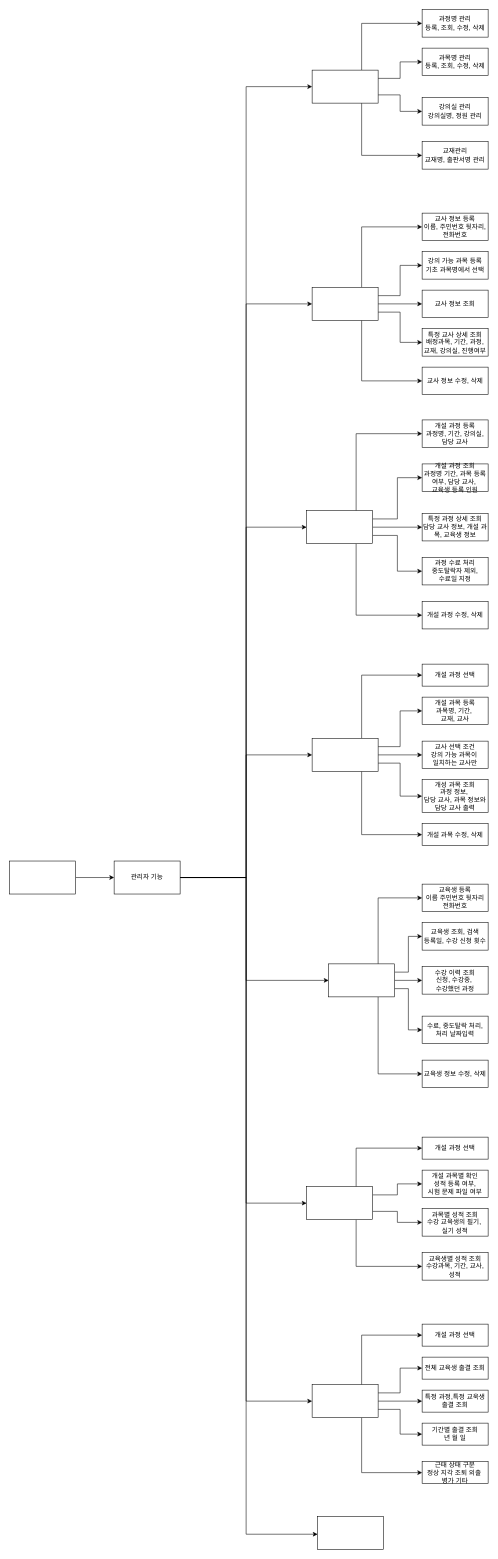
The diagram is 498 pixels wide and 1559 high, and some of its shapes have lost their labels. The centre of each missing label's shape, as x and y in pixels:
"B-01 관리자 로그인" goes at (x=42, y=877).
"B-02 기초 정보 관리" goes at (x=345, y=86).
"B-03 교사 계정 관리" goes at (x=345, y=303).
"B-04 개설 과정 관리" goes at (x=339, y=527).
"B-05 개설 과목 관리" goes at (x=345, y=754).
"B-06 교육생 관리 및 수강 등록" goes at (x=361, y=980).
"B-07 시험 관리 및 성적 조회" goes at (x=339, y=1203).
"B-08 출결 관리 및 조회" goes at (x=345, y=1401).
"B-09 추가 기능 (추후 확정)" goes at (x=350, y=1533).
